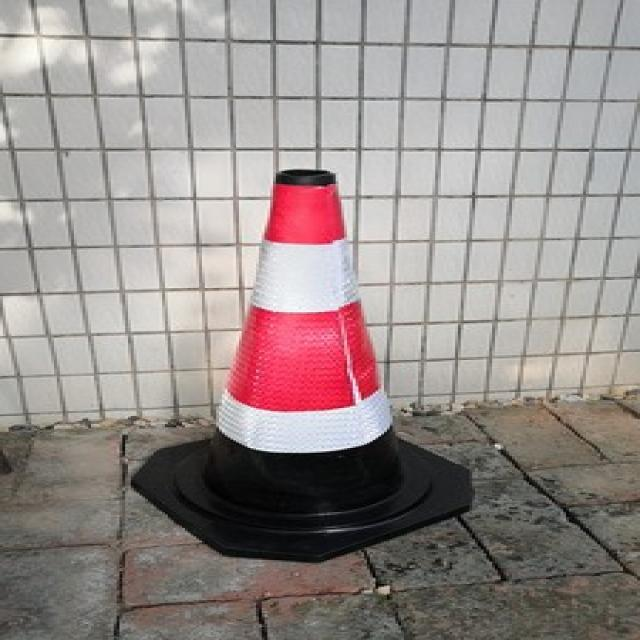reflective_cone: (128, 165, 475, 558)
